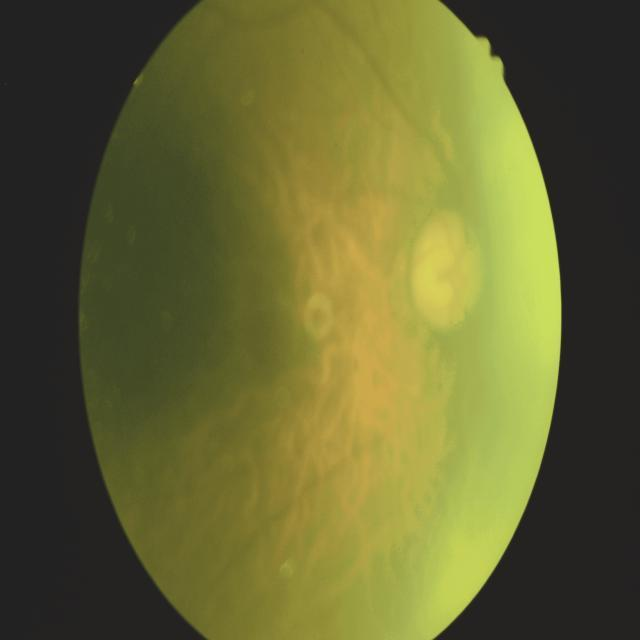cup: (426, 232, 472, 305)
disk: (411, 218, 487, 328)
